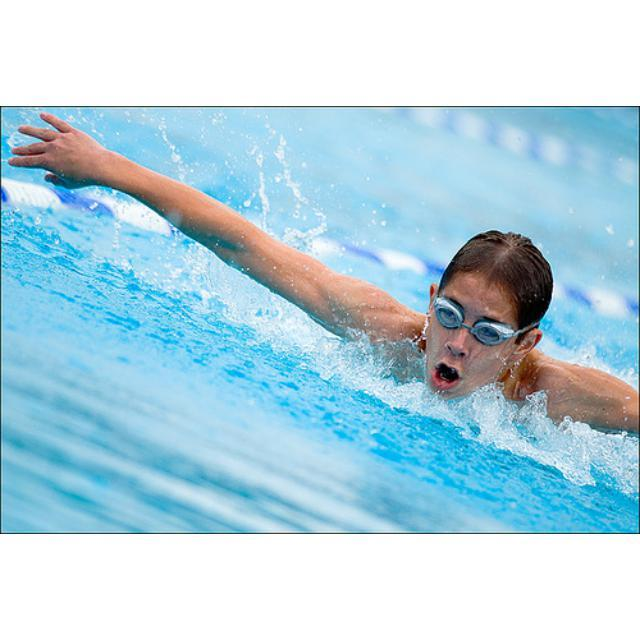human: (10, 110, 639, 441)
